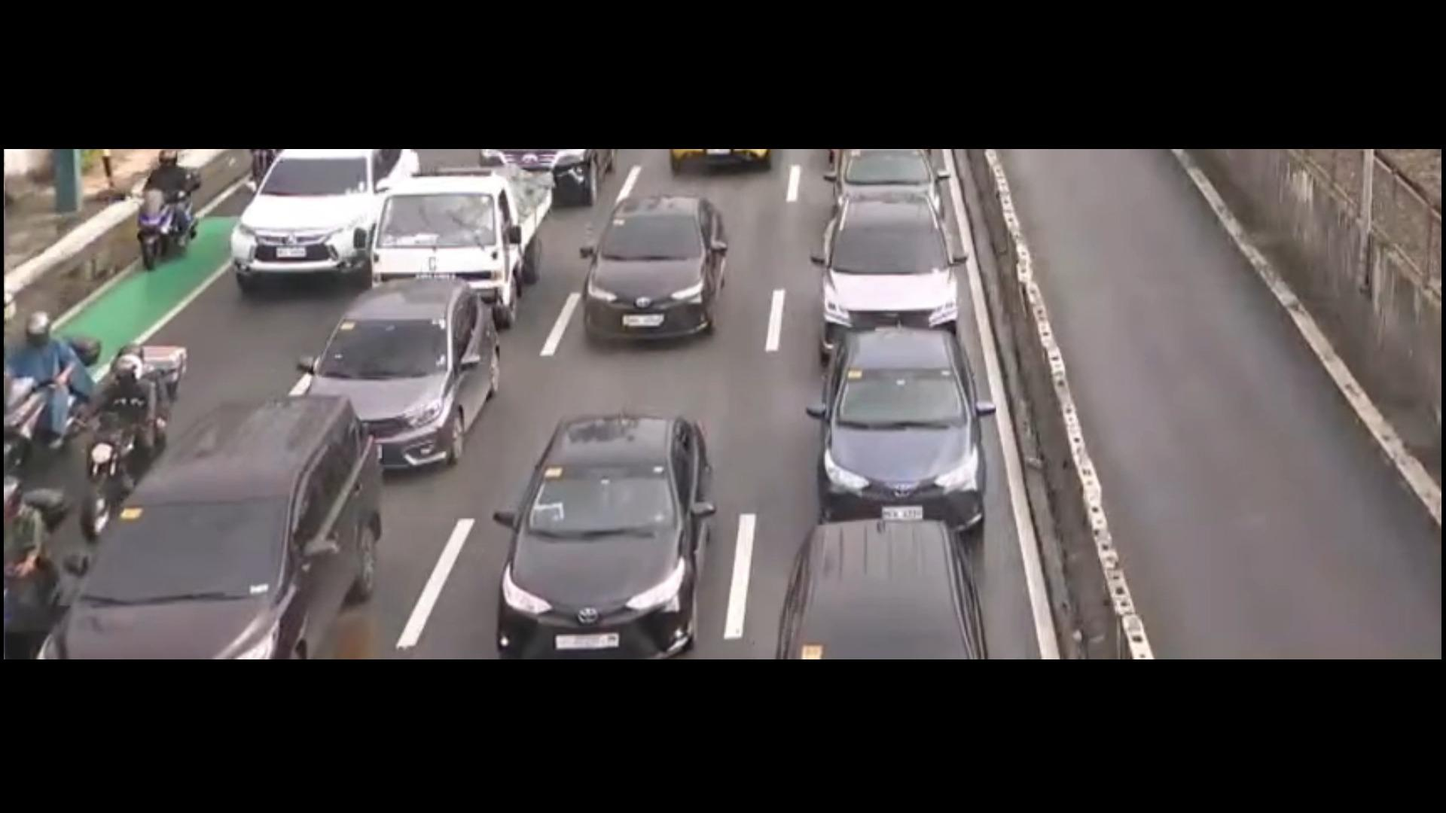Motorcycle: (71, 332, 191, 541), (0, 303, 80, 476), (0, 476, 68, 659), (121, 151, 209, 273)
SUV: (42, 398, 380, 664), (776, 518, 987, 661), (221, 150, 419, 283), (819, 185, 966, 344)
Sedan: (500, 414, 709, 657), (294, 283, 496, 472), (810, 327, 983, 542), (584, 191, 721, 344)
Truck: (366, 156, 561, 327)
